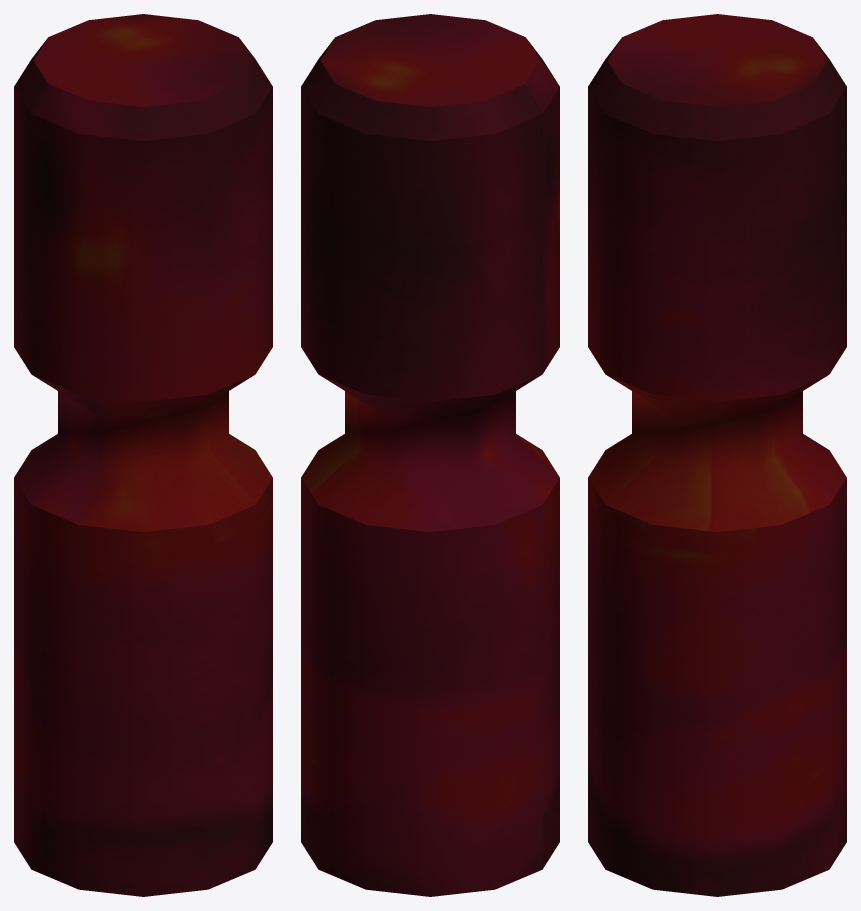
The model's file is PegMetalT4.fbx.
The picture shows the model from 3 angles, left to right: view 1: azimuth 30°, elevation 25°; view 2: azimuth 150°, elevation 25°; view 3: azimuth 270°, elevation 25°; orthographic projection.
Parts seen in each view (by area): view 1: PegMetalT4; view 2: PegMetalT4; view 3: PegMetalT4.
Boxes of the visible parts, box(x1,y1,x2,y2) form: PegMetalT4: box(14, 14, 272, 896); PegMetalT4: box(301, 14, 559, 896); PegMetalT4: box(588, 14, 846, 896).
Bounding box in the file's own units: 0.923 × 3.08 × 0.9227.
Materials: 1 (1 with a texture image).
